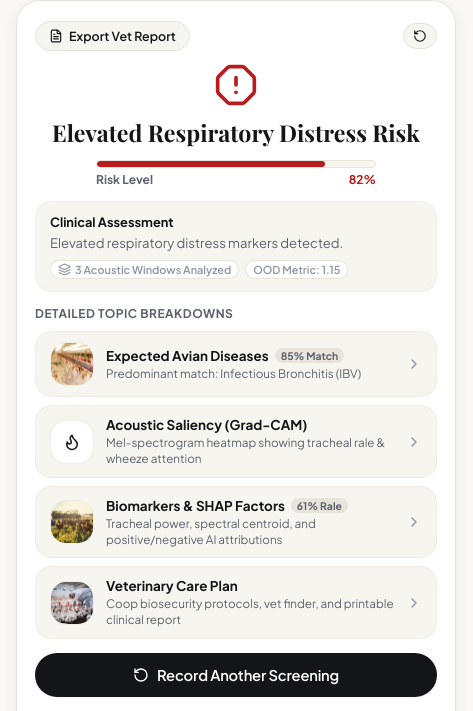
ResultScreen Topic-Based Multi-Page Component › navigates to Veterinary Care Plan topic page
This screenshot has width=473, height=711.
Click the text "Veterinary Care Plan".
click(172, 586)  # box [106,577,238,594]
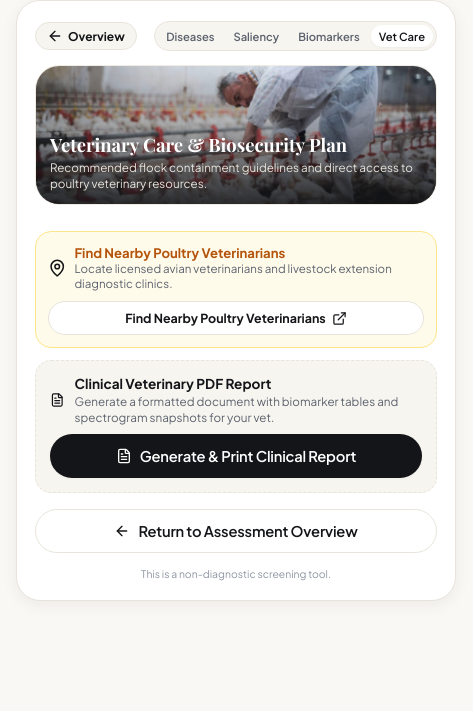
Check: the heading "Veterinary Care & Biosecurity Plan" is shown, box [50,132,347,158]
Check: the heading "Clinical Veterinary PDF Report" is shown, box [74,375,271,392]
